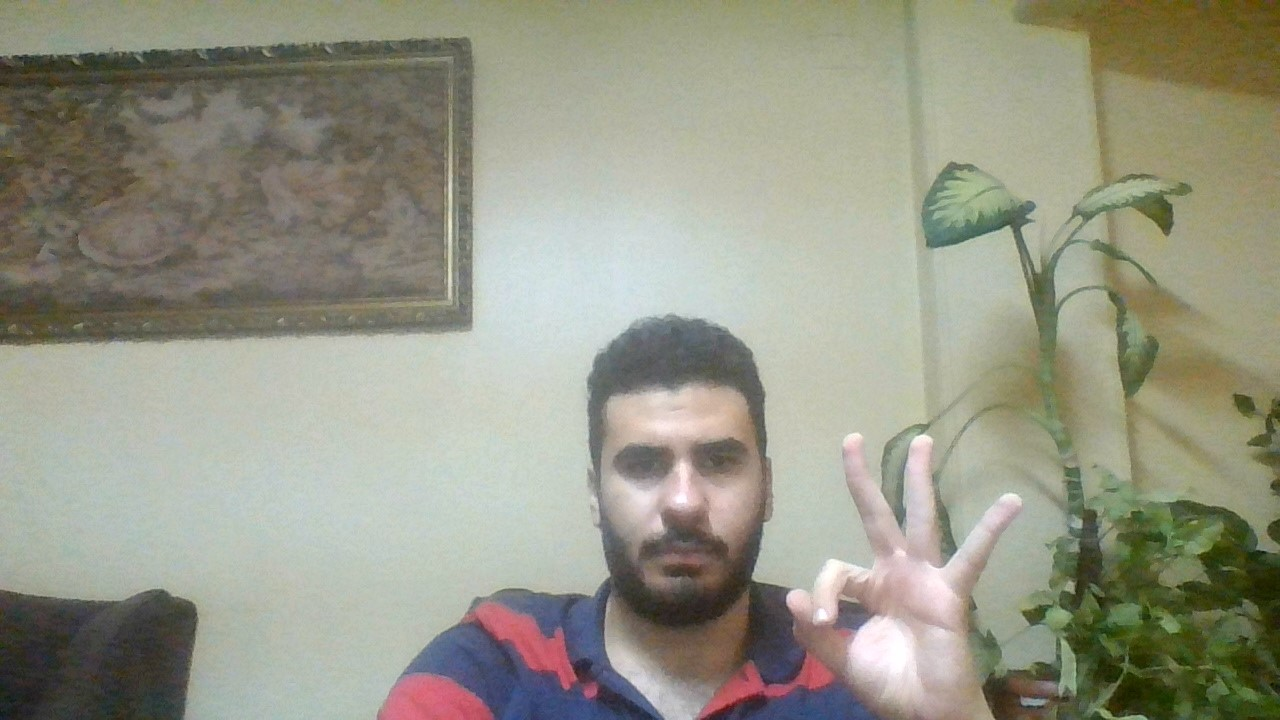okay: (783, 427, 1043, 716)
